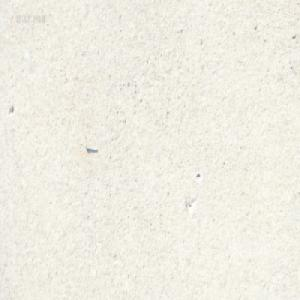Nail: (84, 143, 98, 151)
